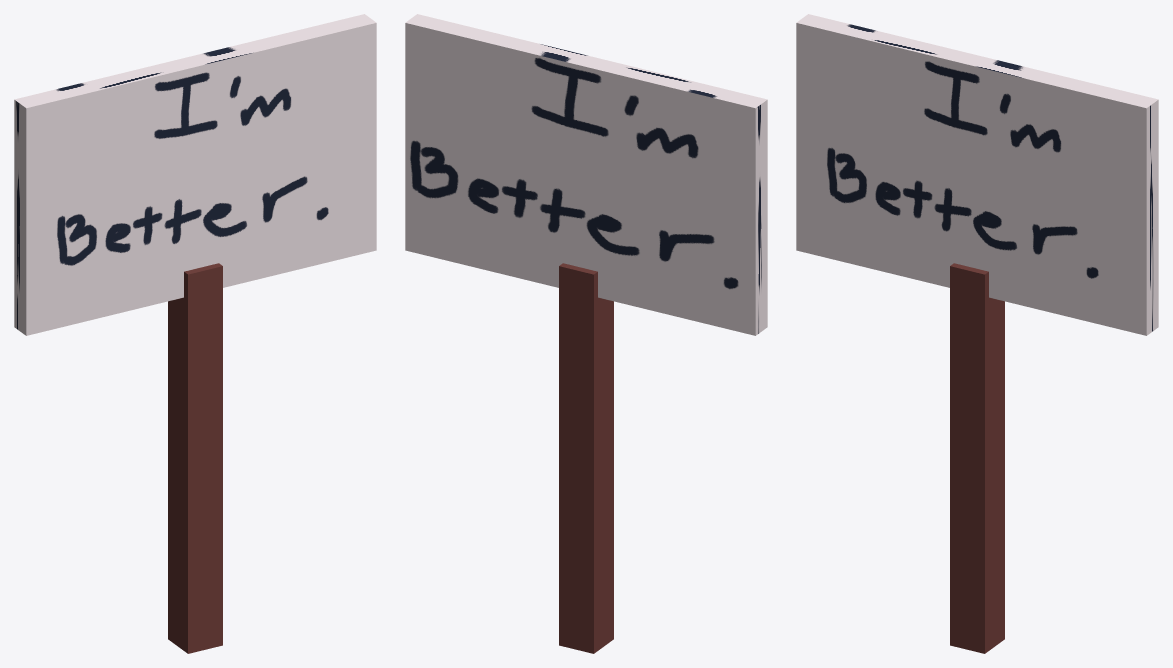
The model's file is Sign4.glb.
3 renders of one model, left to right at view 1: azimuth 30°, elevation 25°; view 2: azimuth 150°, elevation 25°; view 3: azimuth 330°, elevation 25°, orthographic.
Parts seen in each view (by area): view 1: Cube.001, Cube; view 2: Cube.001, Cube; view 3: Cube.001, Cube.
Part boxes in pixels (x1,y1,x2,y2): Cube.001: (14, 14, 376, 335); Cube: (168, 263, 222, 653); Cube.001: (405, 14, 767, 335); Cube: (559, 263, 613, 653); Cube.001: (796, 14, 1158, 335); Cube: (950, 263, 1004, 653).
Size of the model in its own units: 2.85 by 4.51 by 0.2831.
2 materials, 2 textured.
